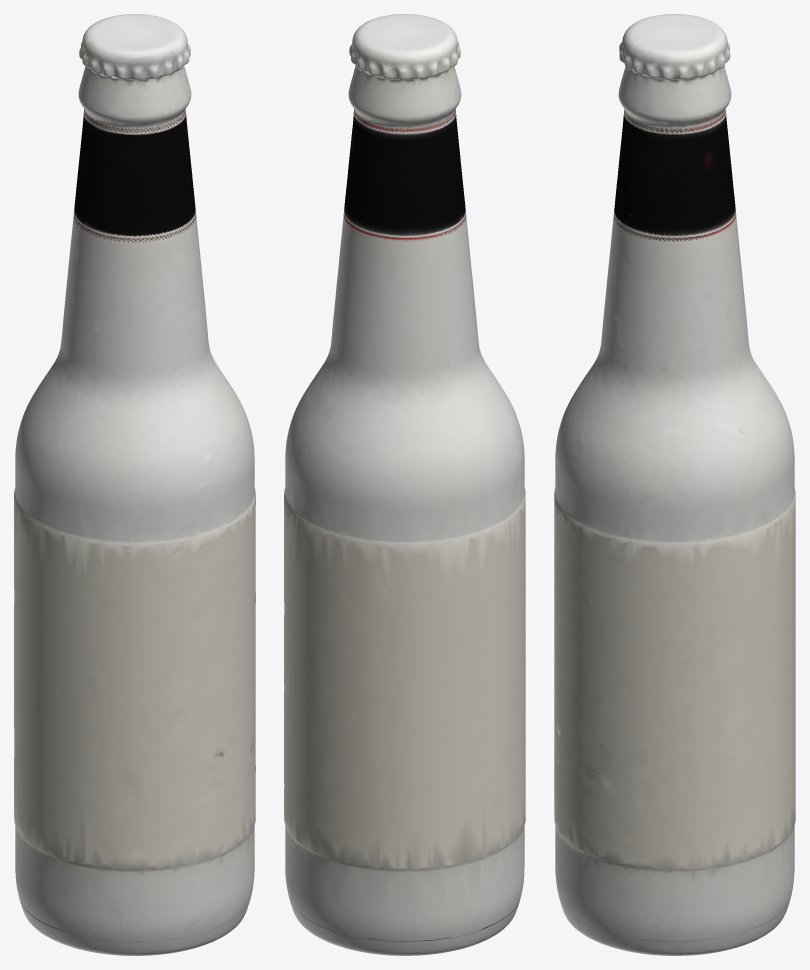
3 views of the same model, side by side, from view 1: azimuth 30°, elevation 25°; view 2: azimuth 150°, elevation 25°; view 3: azimuth 270°, elevation 25° (orthographic).
Parts seen in each view (by area): view 1: Mesh_0; view 2: Mesh_0; view 3: Mesh_0.
Boxes of the visible parts, left/top/right/bottom form: Mesh_0: left=14, top=14, right=255, bottom=955; Mesh_0: left=284, top=14, right=525, bottom=955; Mesh_0: left=554, top=14, right=795, bottom=955.
Bounding box in the file's own units: 0.4754 × 1.91 × 0.4754.
Materials: 1 (1 with a texture image).
